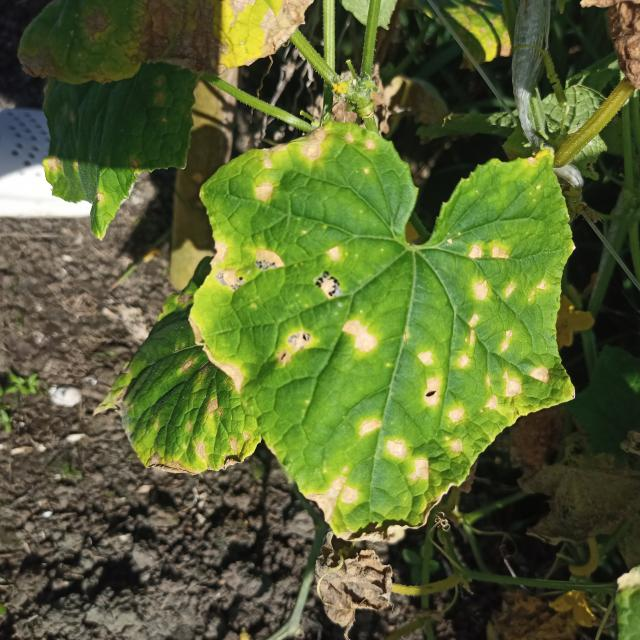disease_cucumber: (195, 122, 568, 530)
